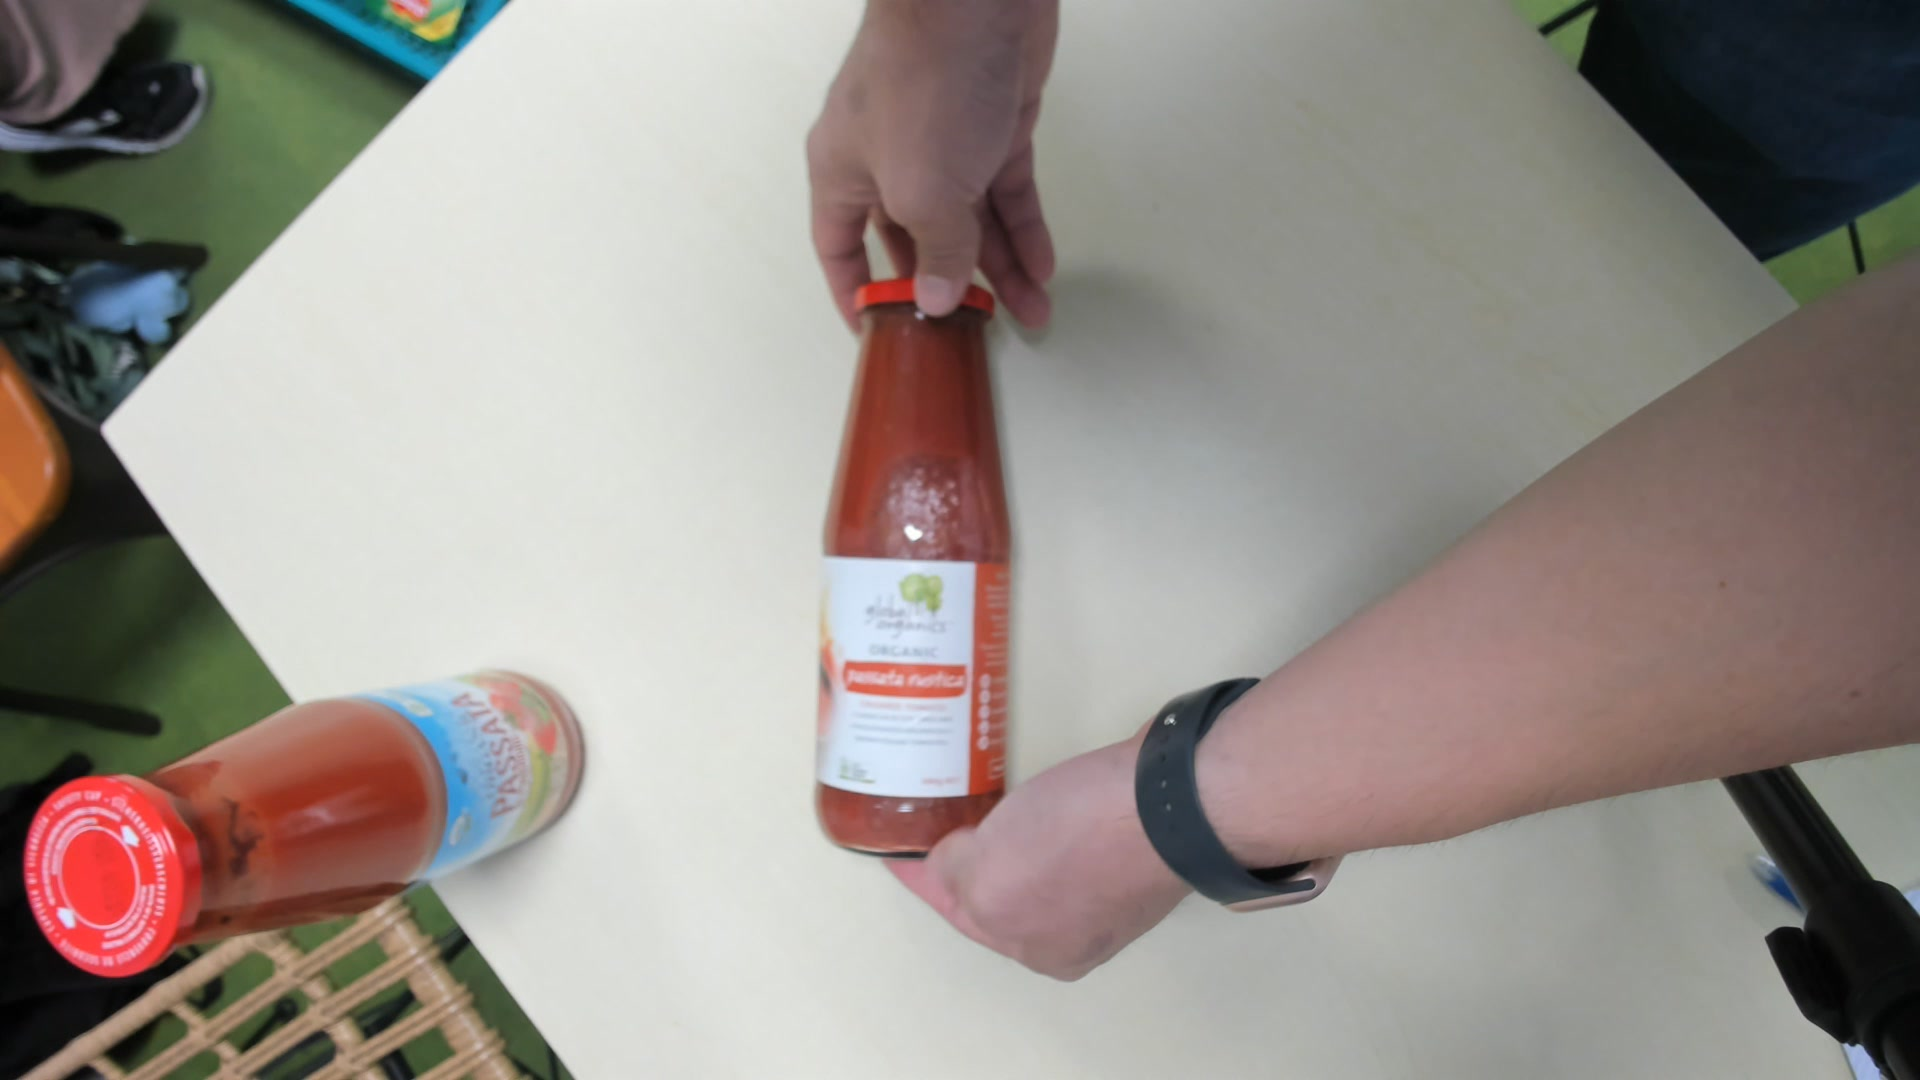PastaSauce_600-699g_NonHalal_NonHealthy: (812, 270, 1019, 858)
